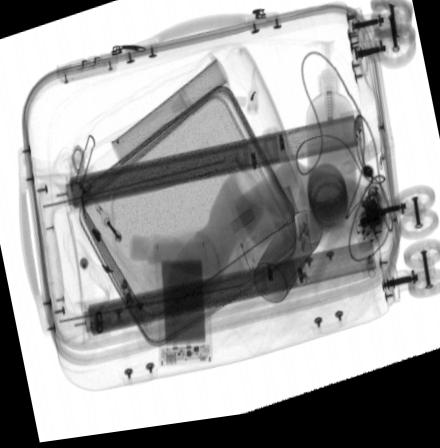Powerbank: (155, 247, 213, 371)
